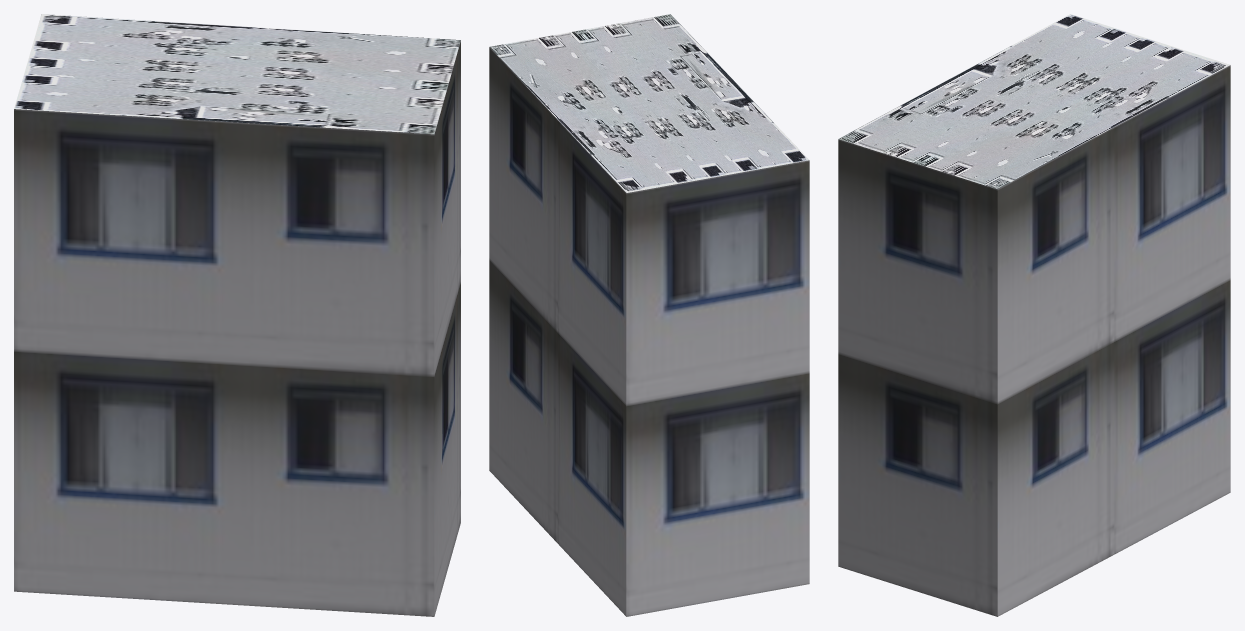
File: ResTex__2009.fbx
3 renders of one model, left to right at view 1: azimuth 30°, elevation 25°; view 2: azimuth 150°, elevation 25°; view 3: azimuth 270°, elevation 25°, orthographic. The views are drawn at different scales.
Visible parts, largest first — view 1: CityEngineMaterial_9_m, CityEngineMaterial_8_m; view 2: CityEngineMaterial_9_m, CityEngineMaterial_8_m; view 3: CityEngineMaterial_9_m, CityEngineMaterial_8_m.
Boxes of the visible parts, left/top/right/bottom form: CityEngineMaterial_9_m: left=14, top=41, right=460, bottom=616; CityEngineMaterial_8_m: left=14, top=14, right=460, bottom=134; CityEngineMaterial_9_m: left=489, top=47, right=809, bottom=616; CityEngineMaterial_8_m: left=490, top=14, right=809, bottom=192; CityEngineMaterial_9_m: left=838, top=65, right=1230, bottom=616; CityEngineMaterial_8_m: left=838, top=14, right=1230, bottom=189.
Size of the model in its own units: 5.28 by 6 by 4.99.
2 materials, 2 textured.
